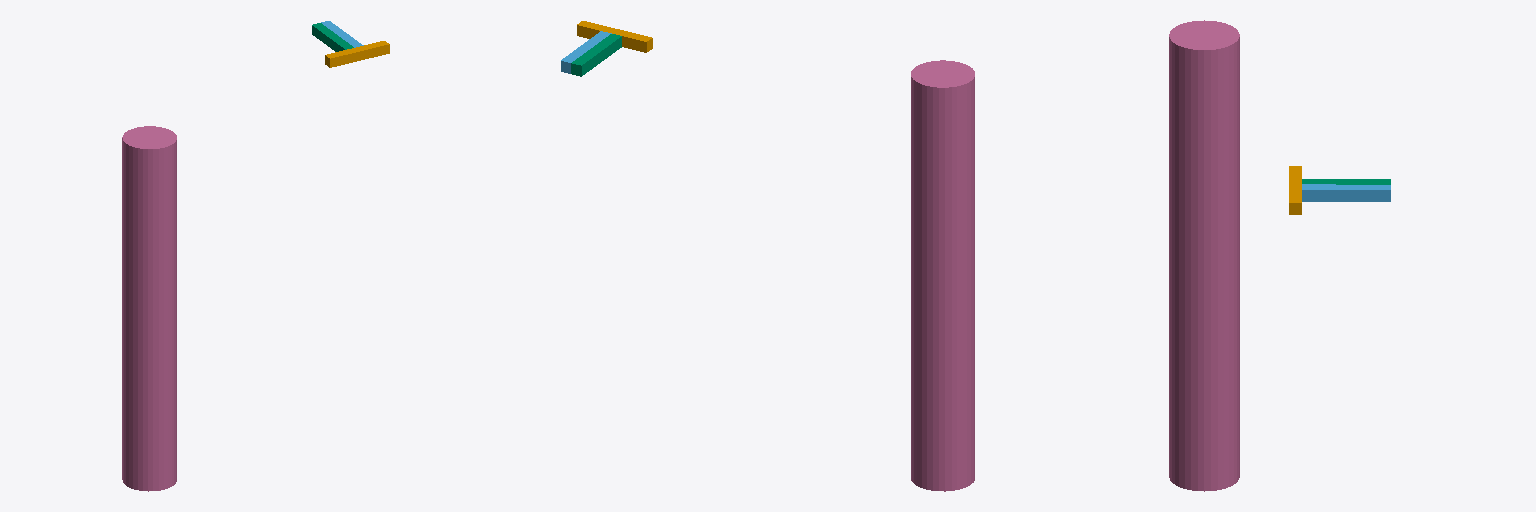
The robot description file, URDF, robot "ur5_gripper":
<?xml version="1.0" ?>
<!-- =================================================================================== -->
<!-- |    This document was autogenerated by xacro from ur5_gripper.xacro              | -->
<!-- |    EDITING THIS FILE BY HAND IS NOT RECOMMENDED                                 | -->
<!-- =================================================================================== -->
<robot name="ur5_gripper" xmlns:xacro="http://ros.org/wiki/xacro">
  <link name="gripper_ankle">
    <visual>
      <geometry>
        <box size="0.03 0.2 0.03"/>
      </geometry>
      <origin rpy="0 0 1.57079632679" xyz="0.0 0.0 0.015"/>
    </visual>
    <collision>
      <geometry>
        <box size="0.03 0.2 0.03"/>
      </geometry>
      <origin rpy="0 0 1.57079632679" xyz="0.0 0.0 0.015"/>
    </collision>
    <inertial>
      <mass value="0.1"/>
      <inertia ixx="0.000340833333333" ixy="0.0" ixz="0.0" iyy="1.5e-05" iyz="0.0" izz="0.000340833333333"/>
    </inertial>
  </link>
  <link name="gripper_r_finger">
    <visual>
      <geometry>
        <box size="0.03 0.2 0.03"/>
      </geometry>
      <origin rpy="0 1.57079632679 0" xyz="0.015 0.0 0.0"/>
    </visual>
    <collision>
      <geometry>
        <box size="0.03 0.2 0.03"/>
      </geometry>
      <origin rpy="0 1.57079632679 0" xyz="0.015 0.0 0.0"/>
    </collision>
    <inertial>
      <mass value="0.1"/>
      <inertia ixx="0.000340833333333" ixy="0.0" ixz="0.0" iyy="1.5e-05" iyz="0.0" izz="0.000340833333333"/>
    </inertial>
  </link>
  <joint name="r_finger_joint" type="prismatic">
    <limit effort="100" lower="0" upper="0.07" velocity="0.25"/>
    <dynamics damping="0.1"/>
    <parent link="gripper_ankle"/>
    <child link="gripper_r_finger"/>
    <origin rpy="1.57079632679 0 3.14159265359" xyz="0.0 0.0 0.13"/>
  </joint>
  <link name="gripper_l_finger">
    <visual>
      <geometry>
        <box size="0.03 0.2 0.03"/>
      </geometry>
      <origin rpy="0 0 0" xyz="0.015 0.0 0.0"/>
    </visual>
    <collision>
      <geometry>
        <box size="0.03 0.2 0.03"/>
      </geometry>
      <origin rpy="0 0 0" xyz="0.015 0.0 0.0"/>
    </collision>
    <inertial>
      <mass value="0.1"/>
      <inertia ixx="0.000340833333333" ixy="0.0" ixz="0.0" iyy="1.5e-05" iyz="0.0" izz="0.000340833333333"/>
    </inertial>
  </link>
  <joint name="l_finger_joint" type="prismatic">
    <limit effort="100" lower="0" upper="0.07" velocity="0.25"/>
    <dynamics damping="0.1"/>
    <parent link="gripper_ankle"/>
    <child link="gripper_l_finger"/>
    <origin rpy="1.57079632679 0 0" xyz="0.0 0.0 0.13"/>
  </joint>
  <transmission name="gripper_r_trans">
    <type>transmission_interface/SimpleTransmission</type>
    <joint name="r_finger_joint">
      <hardwareInterface>hardware_interface/EffortJointInterface</hardwareInterface>
    </joint>
    <actuator name="gripper_r_motor">
      <mechanicalReduction>1</mechanicalReduction>
    </actuator>
  </transmission>
  <transmission name="gripper_l_trans">
    <type>transmission_interface/SimpleTransmission</type>
    <joint name="l_finger_joint">
      <hardwareInterface>hardware_interface/EffortJointInterface</hardwareInterface>
    </joint>
    <actuator name="gripper_l_motor">
      <mechanicalReduction>1</mechanicalReduction>
    </actuator>
  </transmission>
  <gazebo>
    <plugin filename="libgazebo_ros_control.so" name="ros_control">
      <!--robotNamespace>/</robotNamespace-->
      <!--robotSimType>gazebo_ros_control/DefaultRobotHWSim</robotSimType-->
    </plugin>
    <!--
    <plugin name="gazebo_ros_power_monitor_controller" filename="libgazebo_ros_power_monitor.so">
      <alwaysOn>true</alwaysOn>
      <updateRate>1.0</updateRate>
      <timeout>5</timeout>
      <powerStateTopic>power_state</powerStateTopic>
      <powerStateRate>10.0</powerStateRate>
      <fullChargeCapacity>87.78</fullChargeCapacity>     
      <dischargeRate>-474</dischargeRate>
      <chargeRate>525</chargeRate>
      <dischargeVoltage>15.52</dischargeVoltage>
      <chargeVoltage>16.41</chargeVoltage>
    </plugin>
-->
  </gazebo>
  <gazebo>
    <plugin filename="libgazebo_ros_joint_state_publisher.so" name="joint_state_publisher">
      <jointName>shoulder_pan_joint, shoulder_lift_joint, elbow_joint, wrist_1_joint, wrist_2_joint, wrist_3_joint, r_finger_joint, l_finger_joint</jointName>
      <updateRate>100</updateRate>
    </plugin>
    <!-- <plugin name="gazebo_mimic_plugin" filename="libroboticsgroup_gazebo_mimic_joint_plugin.so"> -->
    <!--   <joint>r_finger_joint</joint> -->
    <!--   <mimicJoint>l_finger_joint</mimicJoint> -->
    <!--   <multiplier>-1</multiplier> -->
    <!-- </plugin> -->
  </gazebo>
  <gazebo reference="gripper_r_finger">
    <mu1>0.9</mu1>
    <mu2>0.9</mu2>
    <material>Gazebo/Blue</material>
  </gazebo>
  <gazebo reference="gripper_l_finger">
    <mu1>0.9</mu1>
    <mu2>0.9</mu2>
    <material>Gazebo/Red</material>
  </gazebo>
  <gazebo>
    <gripper name="grasping">
      <grasp_check>
        <attach_steps>1</attach_steps>
        <detach_steps>4</detach_steps>
        <min_contact_count>2</min_contact_count>
      </grasp_check>
      <gripper_link>gripper_r_finger</gripper_link>
      <gripper_link>gripper_l_finger</gripper_link>
      <palm_link>gripper_ankle</palm_link>
    </gripper>
  </gazebo>
  <!-- measured from model -->
  <!--property name="shoulder_height" value="0.089159" /-->
  <!--property name="shoulder_offset" value="0.13585" /-->
  <!-- shoulder_offset - elbow_offset + wrist_1_length = 0.10915 -->
  <!--property name="upper_arm_length" value="0.42500" /-->
  <!--property name="elbow_offset" value="0.1197" /-->
  <!-- CAD measured -->
  <!--property name="forearm_length" value="0.39225" /-->
  <!--property name="wrist_1_length" value="0.093" /-->
  <!-- CAD measured -->
  <!--property name="wrist_2_length" value="0.09465" /-->
  <!-- In CAD this distance is 0.930, but in the spec it is 0.09465 -->
  <!--property name="wrist_3_length" value="0.0823" /-->
  <!-- manually measured -->
  <!-- end: including -->
  <!-- end: properties -->
  <link name="base_link">
    <visual>
      <geometry>
        <mesh filename="package://ur_description/meshes/ur5/visual/base.dae"/>
      </geometry>
      <material name="LightGrey">
        <color rgba="0.7 0.7 0.7 1.0"/>
      </material>
    </visual>
    <collision>
      <geometry>
        <mesh filename="package://ur_description/meshes/ur5/collision/base.stl"/>
      </geometry>
    </collision>
    <inertial>
      <mass value="4.0"/>
      <origin rpy="0 0 0" xyz="0.0 0.0 0.0"/>
      <inertia ixx="0.00443333156" ixy="0.0" ixz="0.0" iyy="0.00443333156" iyz="0.0" izz="0.0072"/>
    </inertial>
  </link>
  <joint name="shoulder_pan_joint" type="revolute">
    <parent link="base_link"/>
    <child link="shoulder_link"/>
    <origin rpy="0.0 0.0 0.0" xyz="0.0 0.0 0.089159"/>
    <axis xyz="0 0 1"/>
    <limit effort="150.0" lower="-3.14159265" upper="3.14159265" velocity="3.15"/>
    <dynamics damping="0.0" friction="0.0"/>
  </joint>
  <link name="shoulder_link">
    <visual>
      <geometry>
        <mesh filename="package://ur_description/meshes/ur5/visual/shoulder.dae"/>
      </geometry>
      <material name="LightGrey">
        <color rgba="0.7 0.7 0.7 1.0"/>
      </material>
    </visual>
    <collision>
      <geometry>
        <mesh filename="package://ur_description/meshes/ur5/collision/shoulder.stl"/>
      </geometry>
    </collision>
    <inertial>
      <mass value="3.7"/>
      <origin rpy="0 0 0" xyz="0.0 0.0 0.0"/>
      <inertia ixx="0.010267495893" ixy="0.0" ixz="0.0" iyy="0.010267495893" iyz="0.0" izz="0.00666"/>
    </inertial>
  </link>
  <joint name="shoulder_lift_joint" type="revolute">
    <parent link="shoulder_link"/>
    <child link="upper_arm_link"/>
    <origin rpy="0.0 1.570796325 0.0" xyz="0.0 0.13585 0.0"/>
    <axis xyz="0 1 0"/>
    <limit effort="150.0" lower="-3.14159265" upper="3.14159265" velocity="3.15"/>
    <dynamics damping="0.0" friction="0.0"/>
  </joint>
  <link name="upper_arm_link">
    <visual>
      <geometry>
        <mesh filename="package://ur_description/meshes/ur5/visual/upperarm.dae"/>
      </geometry>
      <material name="LightGrey">
        <color rgba="0.7 0.7 0.7 1.0"/>
      </material>
    </visual>
    <collision>
      <geometry>
        <mesh filename="package://ur_description/meshes/ur5/collision/upperarm.stl"/>
      </geometry>
    </collision>
    <inertial>
      <mass value="8.393"/>
      <origin rpy="0 0 0" xyz="0.0 0.0 0.28"/>
      <inertia ixx="0.22689067591" ixy="0.0" ixz="0.0" iyy="0.22689067591" iyz="0.0" izz="0.0151074"/>
    </inertial>
  </link>
  <joint name="elbow_joint" type="revolute">
    <parent link="upper_arm_link"/>
    <child link="forearm_link"/>
    <origin rpy="0.0 0.0 0.0" xyz="0.0 -0.1197 0.425"/>
    <axis xyz="0 1 0"/>
    <limit effort="150.0" lower="-3.14159265" upper="3.14159265" velocity="3.15"/>
    <dynamics damping="0.0" friction="0.0"/>
  </joint>
  <link name="forearm_link">
    <visual>
      <geometry>
        <mesh filename="package://ur_description/meshes/ur5/visual/forearm.dae"/>
      </geometry>
      <material name="LightGrey">
        <color rgba="0.7 0.7 0.7 1.0"/>
      </material>
    </visual>
    <collision>
      <geometry>
        <mesh filename="package://ur_description/meshes/ur5/collision/forearm.stl"/>
      </geometry>
    </collision>
    <inertial>
      <mass value="2.275"/>
      <origin rpy="0 0 0" xyz="0.0 0.0 0.25"/>
      <inertia ixx="0.049443313556" ixy="0.0" ixz="0.0" iyy="0.049443313556" iyz="0.0" izz="0.004095"/>
    </inertial>
  </link>
  <joint name="wrist_1_joint" type="revolute">
    <parent link="forearm_link"/>
    <child link="wrist_1_link"/>
    <origin rpy="0.0 1.570796325 0.0" xyz="0.0 0.0 0.39225"/>
    <axis xyz="0 1 0"/>
    <limit effort="28.0" lower="-3.14159265" upper="3.14159265" velocity="3.2"/>
    <dynamics damping="0.0" friction="0.0"/>
  </joint>
  <link name="wrist_1_link">
    <visual>
      <geometry>
        <mesh filename="package://ur_description/meshes/ur5/visual/wrist1.dae"/>
      </geometry>
      <material name="LightGrey">
        <color rgba="0.7 0.7 0.7 1.0"/>
      </material>
    </visual>
    <collision>
      <geometry>
        <mesh filename="package://ur_description/meshes/ur5/collision/wrist1.stl"/>
      </geometry>
    </collision>
    <inertial>
      <mass value="1.219"/>
      <origin rpy="0 0 0" xyz="0.0 0.0 0.0"/>
      <inertia ixx="0.111172755531" ixy="0.0" ixz="0.0" iyy="0.111172755531" iyz="0.0" izz="0.21942"/>
    </inertial>
  </link>
  <joint name="wrist_2_joint" type="revolute">
    <parent link="wrist_1_link"/>
    <child link="wrist_2_link"/>
    <origin rpy="0.0 0.0 0.0" xyz="0.0 0.093 0.0"/>
    <axis xyz="0 0 1"/>
    <limit effort="28.0" lower="-3.14159265" upper="3.14159265" velocity="3.2"/>
    <dynamics damping="0.0" friction="0.0"/>
  </joint>
  <link name="wrist_2_link">
    <visual>
      <geometry>
        <mesh filename="package://ur_description/meshes/ur5/visual/wrist2.dae"/>
      </geometry>
      <material name="LightGrey">
        <color rgba="0.7 0.7 0.7 1.0"/>
      </material>
    </visual>
    <collision>
      <geometry>
        <mesh filename="package://ur_description/meshes/ur5/collision/wrist2.stl"/>
      </geometry>
    </collision>
    <inertial>
      <mass value="1.219"/>
      <origin rpy="0 0 0" xyz="0.0 0.0 0.0"/>
      <inertia ixx="0.111172755531" ixy="0.0" ixz="0.0" iyy="0.111172755531" iyz="0.0" izz="0.21942"/>
    </inertial>
  </link>
  <joint name="wrist_3_joint" type="revolute">
    <parent link="wrist_2_link"/>
    <child link="wrist_3_link"/>
    <origin rpy="0.0 0.0 0.0" xyz="0.0 0.0 0.09465"/>
    <axis xyz="0 1 0"/>
    <limit effort="28.0" lower="-3.14159265" upper="3.14159265" velocity="3.2"/>
    <dynamics damping="0.0" friction="0.0"/>
  </joint>
  <link name="wrist_3_link">
    <visual>
      <geometry>
        <mesh filename="package://ur_description/meshes/ur5/visual/wrist3.dae"/>
      </geometry>
      <material name="LightGrey">
        <color rgba="0.7 0.7 0.7 1.0"/>
      </material>
    </visual>
    <collision>
      <geometry>
        <mesh filename="package://ur_description/meshes/ur5/collision/wrist3.stl"/>
      </geometry>
    </collision>
    <inertial>
      <mass value="0.1879"/>
      <origin rpy="0 0 0" xyz="0.0 0.0 0.0"/>
      <inertia ixx="0.0171364731454" ixy="0.0" ixz="0.0" iyy="0.0171364731454" iyz="0.0" izz="0.033822"/>
    </inertial>
  </link>
  <joint name="ee_fixed_joint" type="fixed">
    <parent link="wrist_3_link"/>
    <child link="ee_link"/>
    <origin rpy="0.0 0.0 1.570796325" xyz="0.0 0.0823 0.0"/>
  </joint>
  <link name="ee_link">
    <collision>
      <geometry>
        <box size="0.01 0.01 0.01"/>
      </geometry>
      <origin rpy="0 0 0" xyz="-0.01 0 0"/>
    </collision>
  </link>
  <transmission name="shoulder_pan_trans">
    <type>transmission_interface/SimpleTransmission</type>
    <joint name="shoulder_pan_joint">
      <hardwareInterface>hardware_interface/PositionJointInterface</hardwareInterface>
    </joint>
    <actuator name="shoulder_pan_motor">
      <mechanicalReduction>1</mechanicalReduction>
    </actuator>
  </transmission>
  <transmission name="shoulder_lift_trans">
    <type>transmission_interface/SimpleTransmission</type>
    <joint name="shoulder_lift_joint">
      <hardwareInterface>hardware_interface/PositionJointInterface</hardwareInterface>
    </joint>
    <actuator name="shoulder_lift_motor">
      <mechanicalReduction>1</mechanicalReduction>
    </actuator>
  </transmission>
  <transmission name="elbow_trans">
    <type>transmission_interface/SimpleTransmission</type>
    <joint name="elbow_joint">
      <hardwareInterface>hardware_interface/PositionJointInterface</hardwareInterface>
    </joint>
    <actuator name="elbow_motor">
      <mechanicalReduction>1</mechanicalReduction>
    </actuator>
  </transmission>
  <transmission name="wrist_1_trans">
    <type>transmission_interface/SimpleTransmission</type>
    <joint name="wrist_1_joint">
      <hardwareInterface>hardware_interface/PositionJointInterface</hardwareInterface>
    </joint>
    <actuator name="wrist_1_motor">
      <mechanicalReduction>1</mechanicalReduction>
    </actuator>
  </transmission>
  <transmission name="wrist_2_trans">
    <type>transmission_interface/SimpleTransmission</type>
    <joint name="wrist_2_joint">
      <hardwareInterface>hardware_interface/PositionJointInterface</hardwareInterface>
    </joint>
    <actuator name="wrist_2_motor">
      <mechanicalReduction>1</mechanicalReduction>
    </actuator>
  </transmission>
  <transmission name="wrist_3_trans">
    <type>transmission_interface/SimpleTransmission</type>
    <joint name="wrist_3_joint">
      <hardwareInterface>hardware_interface/PositionJointInterface</hardwareInterface>
    </joint>
    <actuator name="wrist_3_motor">
      <mechanicalReduction>1</mechanicalReduction>
    </actuator>
  </transmission>
  <!-- nothing to do here at the moment -->
  <!-- ROS base_link to UR 'Base' Coordinates transform -->
  <link name="base"/>
  <joint name="base_link-base_fixed_joint" type="fixed">
    <!-- NOTE: this rotation is only needed as long as base_link itself is
                 not corrected wrt the real robot (ie: rotated over 180
                 degrees)
      -->
    <origin rpy="0 0 -3.14159265" xyz="0 0 0"/>
    <parent link="base_link"/>
    <child link="base"/>
  </joint>
  <!-- Frame coincident with all-zeros TCP on UR controller -->
  <link name="tool0"/>
  <joint name="wrist_3_link-tool0_fixed_joint" type="fixed">
    <origin rpy="-1.570796325 0 0" xyz="0 0.0823 0"/>
    <parent link="wrist_3_link"/>
    <child link="tool0"/>
  </joint>
  <!-- gripper instance-->
  <!-- end: compentens instantiating -->
  <!-- end: xacro cylinder inertial -->
  <!-- end: xacro cylinder geometry -->
  <!-- start: world link/joint -->
  <link name="world"/>
  <joint name="world_to_stand" type="fixed">
    <parent link="world"/>
    <child link="stand_link"/>
    <origin rpy="0.0 0.0 0.0" xyz="0.0 0.0 0.55"/>
  </joint>
  <!-- end: world link -->
  <!-- start: base link/joint -->
  <link name="stand_link">
    <visual>
      <geometry>
        <cylinder length="1.1" radius="0.08"/>
      </geometry>
    </visual>
    <collision>
      <geometry>
        <cylinder length="1.1" radius="0.08"/>
      </geometry>
    </collision>
    <inertial>
      <mass value="20.0"/>
      <origin rpy="0 0 0" xyz="0.0 0.0 0.0"/>
      <inertia ixx="2.0486658472" ixy="0.0" ixz="0.0" iyy="2.0486658472" iyz="0.0" izz="0.064"/>
    </inertial>
  </link>
  <joint name="stand_to_robot" type="fixed">
    <parent link="stand_link"/>
    <child link="base_link"/>
    <origin rpy="0.0 0.0 0.0" xyz="0.0 0.0 0.55"/>
  </joint>
  <!-- end: base link -->
  <!-- start: arm-gripper joint -->
  <joint name="to_gripper" type="fixed">
    <parent link="ee_link"/>
    <child link="gripper_ankle"/>
    <origin rpy="-1.57 0 -1.57" xyz="0 0 0"/>
  </joint>
  <!-- end: arm-gripper joint -->
</robot>

--- Facts derived from the render (not from the file) ---
3 views of the same robot in one strip: view 1: azimuth 30°, elevation 25°; view 2: azimuth 150°, elevation 25°; view 3: azimuth 270°, elevation 25° (orthographic).
Robot: ur5_gripper — 15 links, 14 joints (6 revolute, 2 prismatic, 6 fixed); root link world; default pose: all joints at 0.
Links seen in each view (by area): view 1: stand_link, gripper_ankle, gripper_l_finger; view 2: stand_link, gripper_l_finger, gripper_ankle, gripper_r_finger; view 3: stand_link, gripper_r_finger, gripper_ankle.
Link boxes in pixels (x1,y1,x2,y2): stand_link: (122, 126, 176, 491); gripper_ankle: (325, 41, 389, 67); gripper_l_finger: (312, 23, 353, 51); stand_link: (911, 60, 974, 491); gripper_l_finger: (571, 34, 621, 76); gripper_ankle: (577, 21, 652, 52); gripper_r_finger: (561, 31, 611, 73); stand_link: (1169, 20, 1239, 491); gripper_r_finger: (1302, 184, 1390, 201); gripper_ankle: (1289, 166, 1301, 214).
Bounding box of the posed robot: 0.9973 × 0.5015 × 1.11 m (x, y, z).
Meshes: 7 distinct files referenced, 0 mesh visuals loaded (none loaded); not drawn: 7 (reference not matched to a file when rendering).